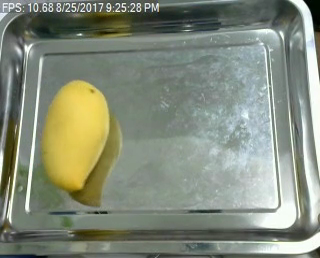Mango: (42, 79, 111, 189)
